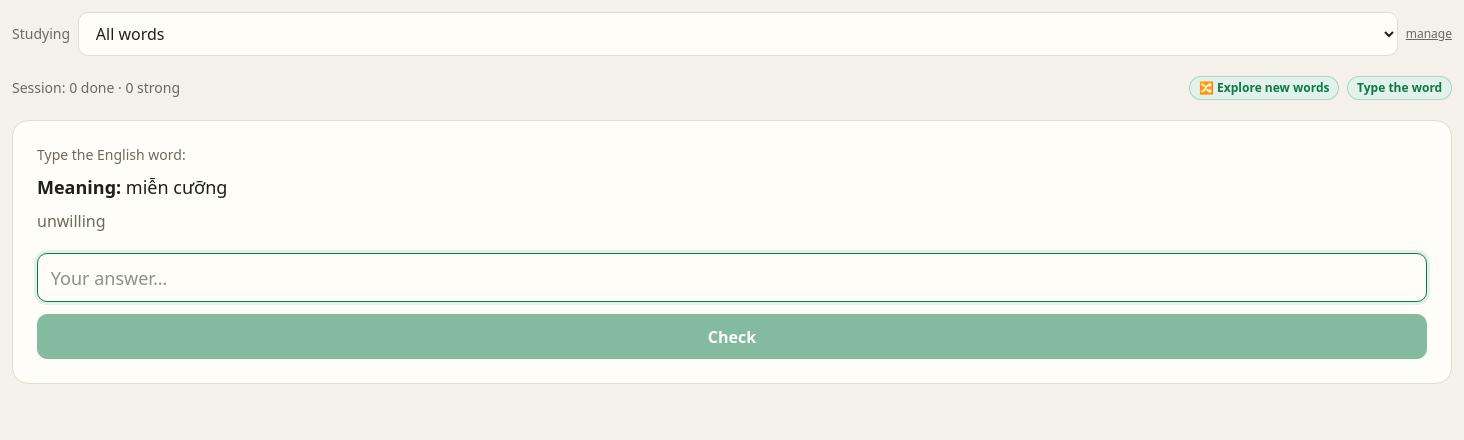
Test: PracticePage — Enter-to-submit shows the verdict and does not auto-advance › type_from_definition: a single Enter shows feedback and stays
In the field with placeholder "Your answer…": (732, 278) [37,253,1427,302], type "reluctant"
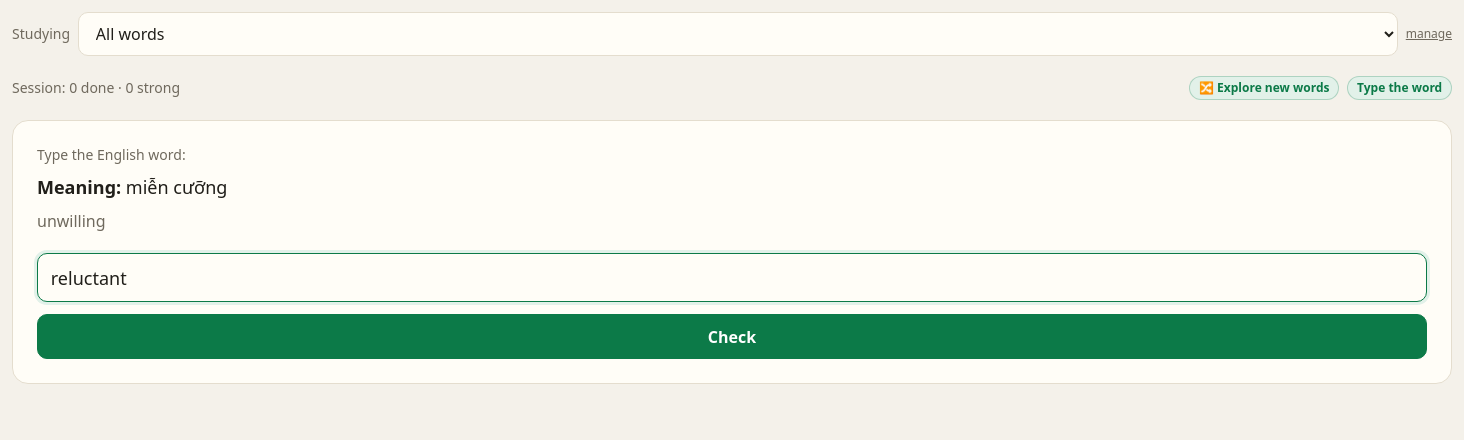
Press Enter in the field with placeholder "Your answer…", box [37,253,1427,302]
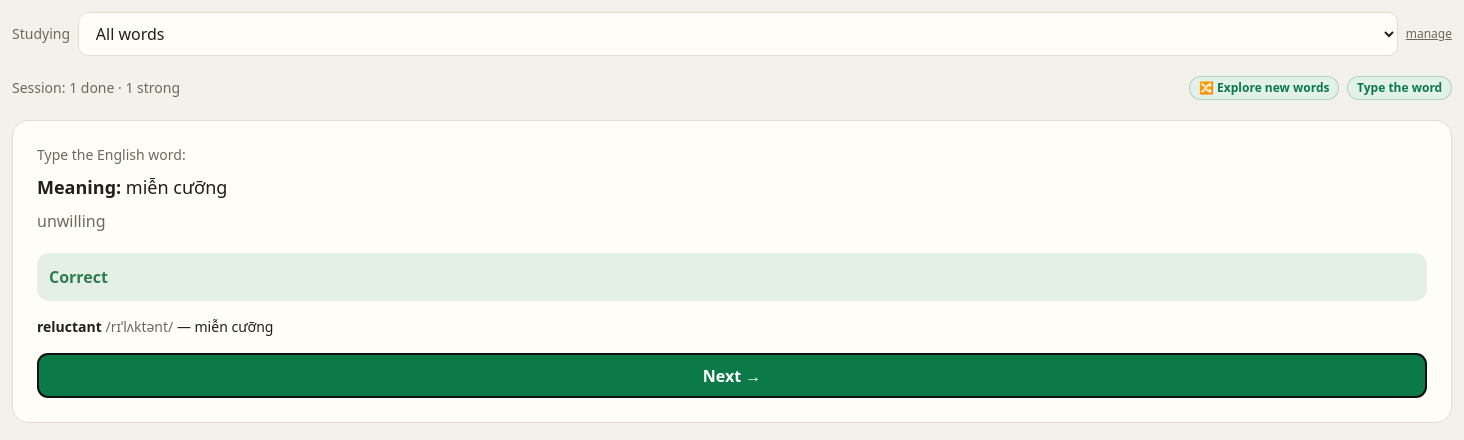
expect the text "Correct" is shown: met, box [49,265,108,289]
expect the button "Next →" is shown: met, box [37,353,1427,398]
